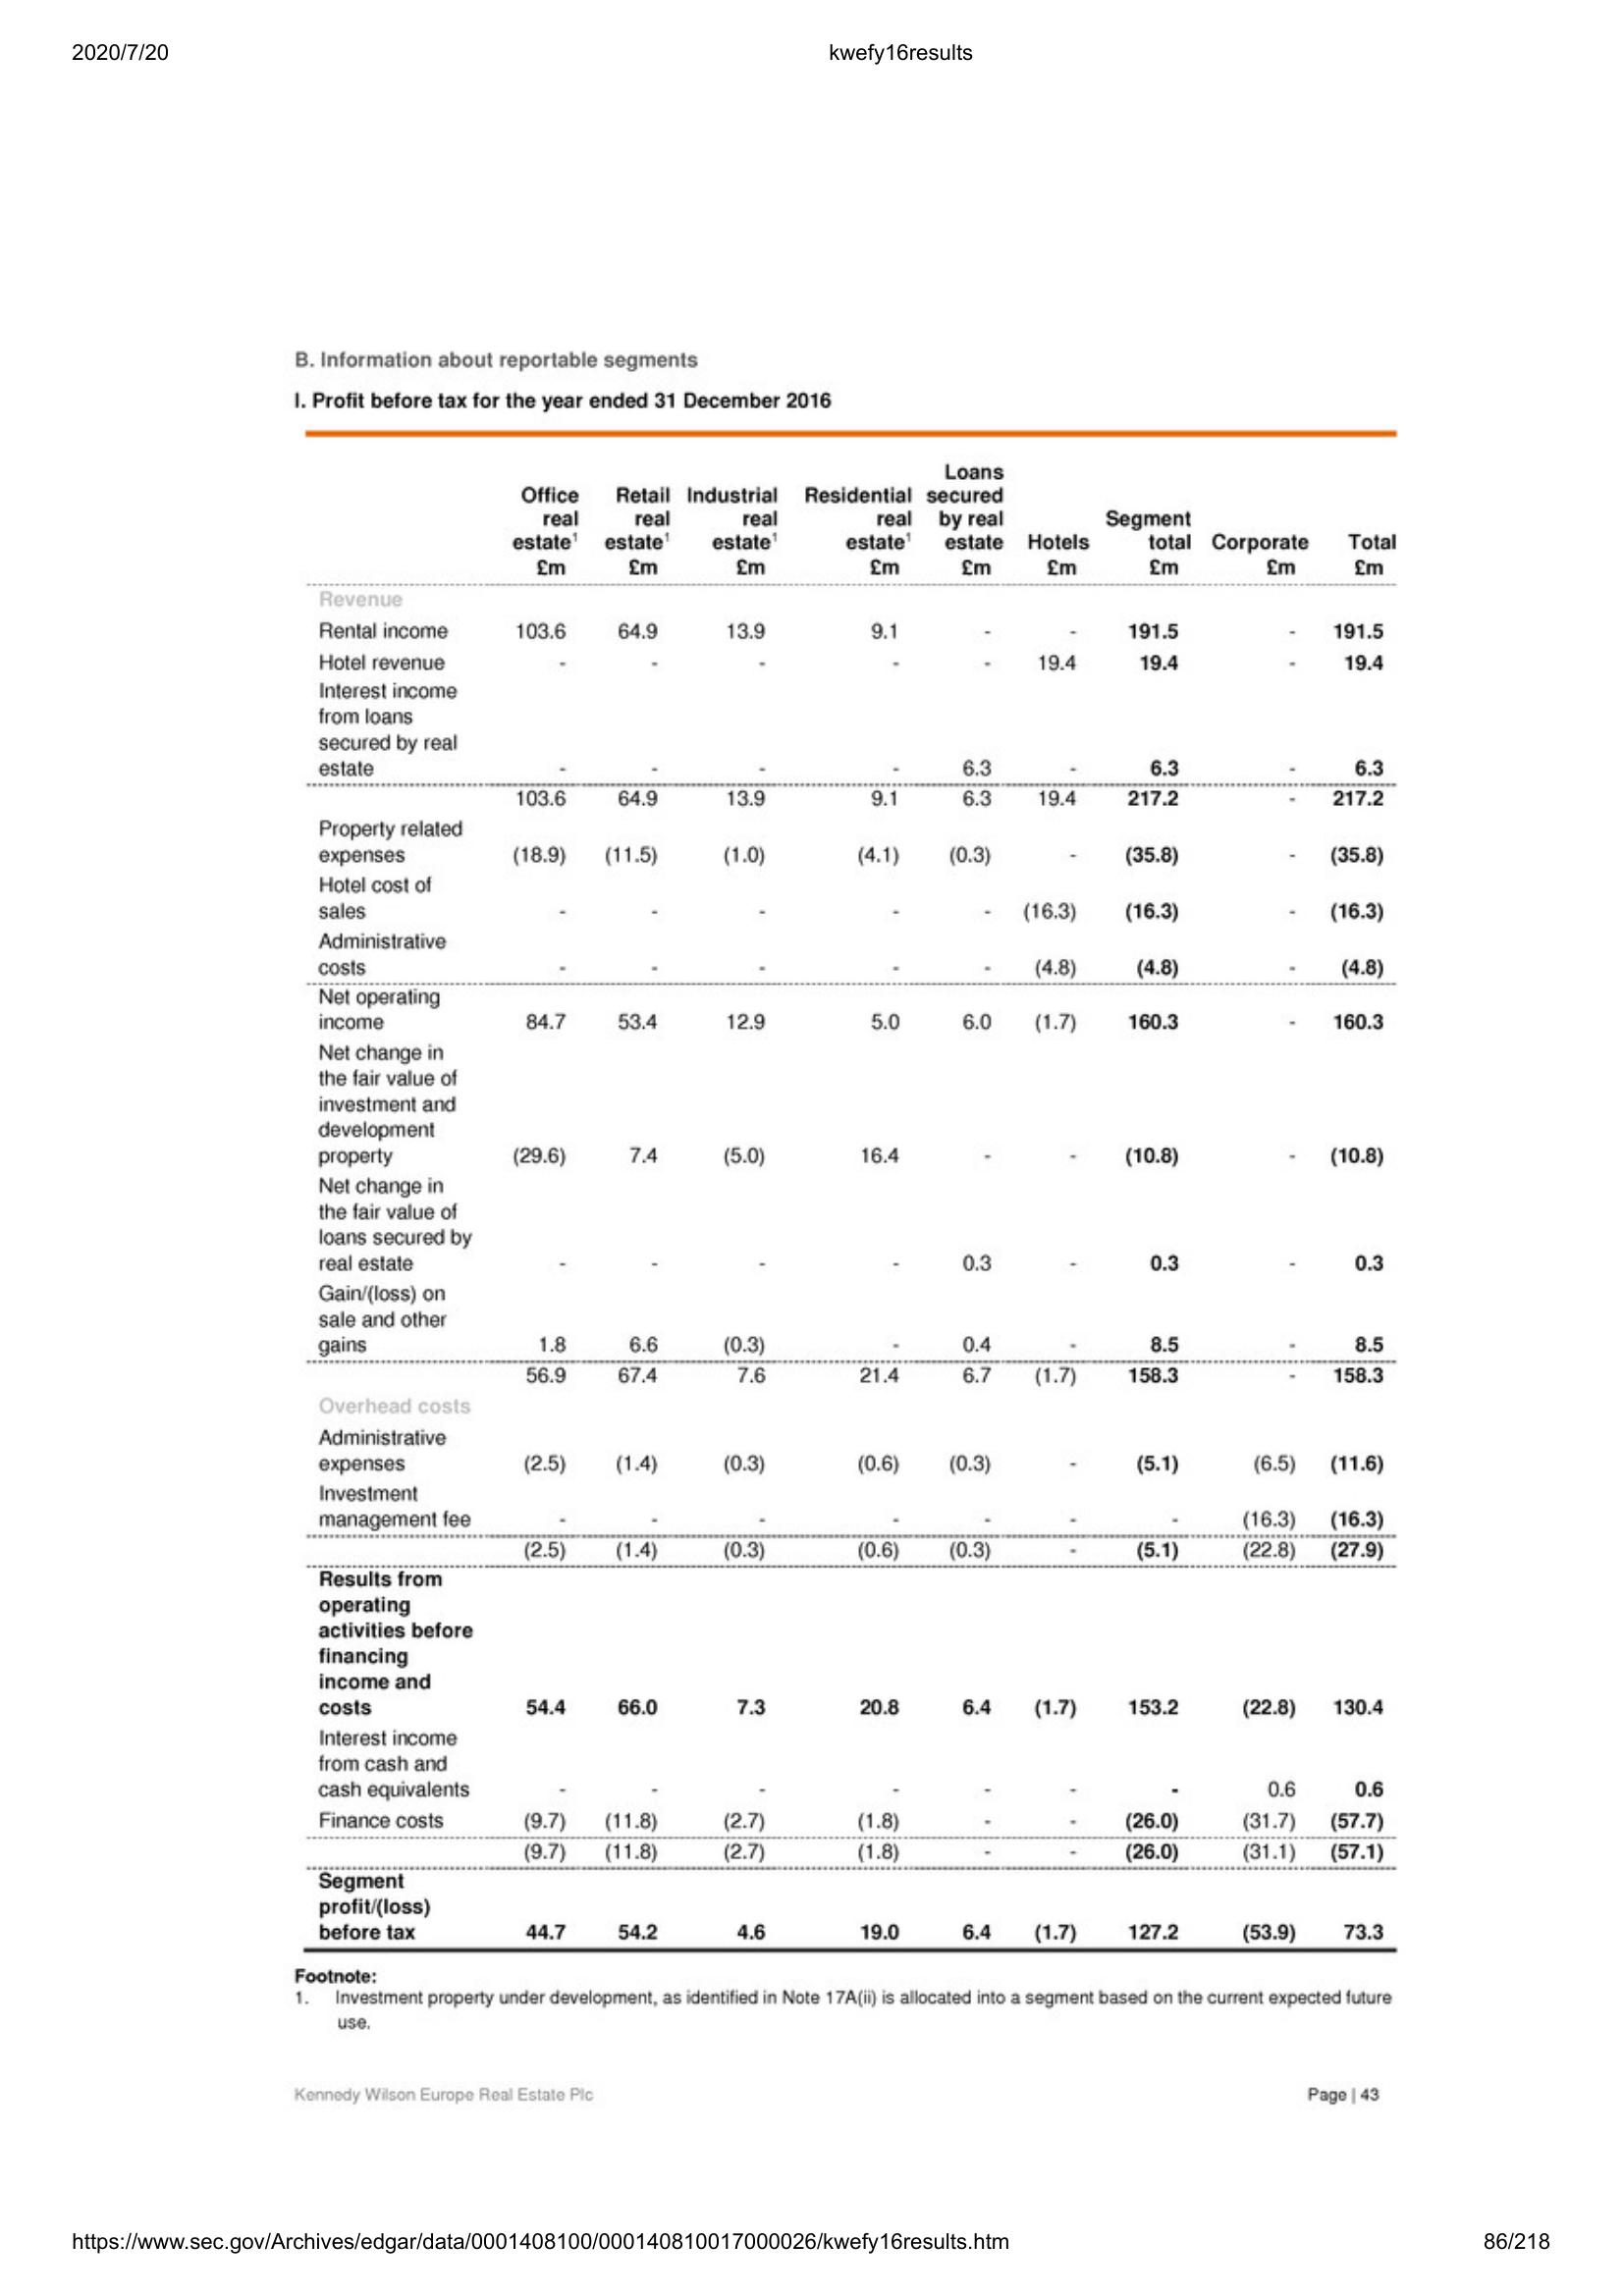table: (302, 427, 1410, 1961)
